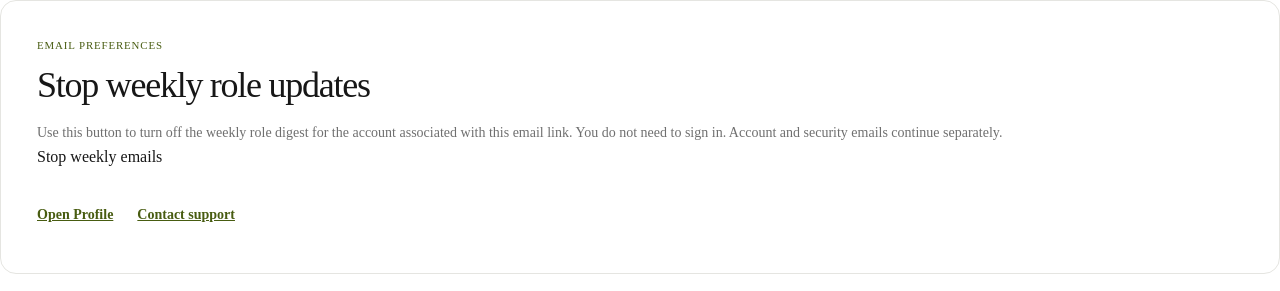
Test: login-free one-shot unsubscribe confirmation › strips proof without sending on GET; only the explicit button posts it
The width and height of the screenshot is (1280, 291).
Click the button "Stop weekly emails". click: (100, 157)
box: [37,145,162,169]
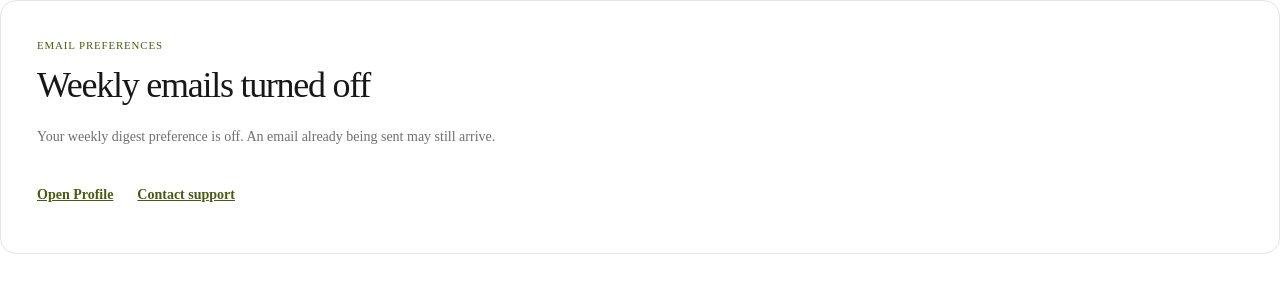
Result: the heading "Weekly emails turned off" is shown at [37,65,370,105]
Result: the message shows "already being sent" at [37,129,495,144]
